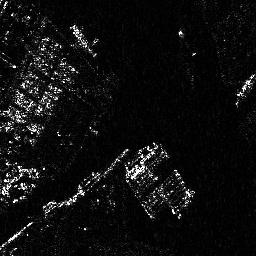ship: (71, 24, 96, 55), (234, 73, 256, 105)
